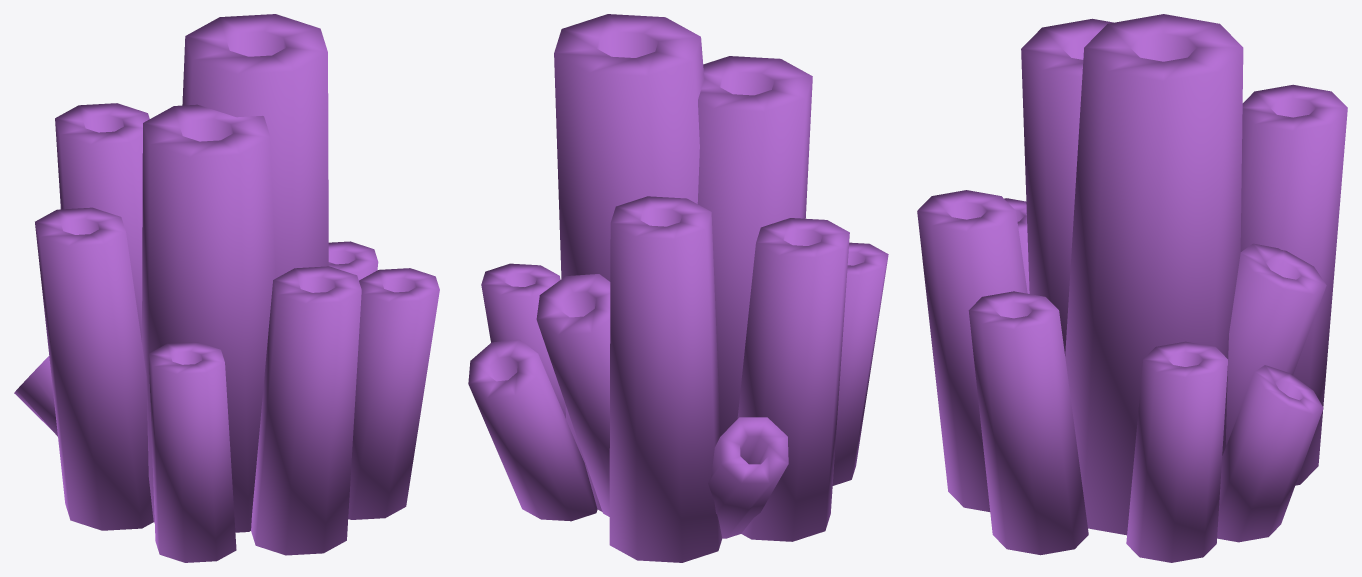
File: Large1.fbx
3 renders of one model, left to right at view 1: azimuth 30°, elevation 25°; view 2: azimuth 150°, elevation 25°; view 3: azimuth 270°, elevation 25°, orthographic. The views are drawn at different scales.
Parts seen in each view (by area): view 1: Large1; view 2: Large1; view 3: Large1.
Part boxes in pixels (x1,y1,x2,y2): Large1: [14, 14, 439, 562]; Large1: [468, 14, 888, 562]; Large1: [917, 14, 1347, 562].
Size of the model in its own units: 6.02 by 7.2 by 6.09.
